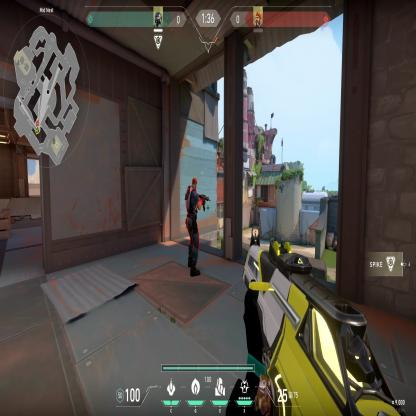enemy: (183, 177, 203, 278)
